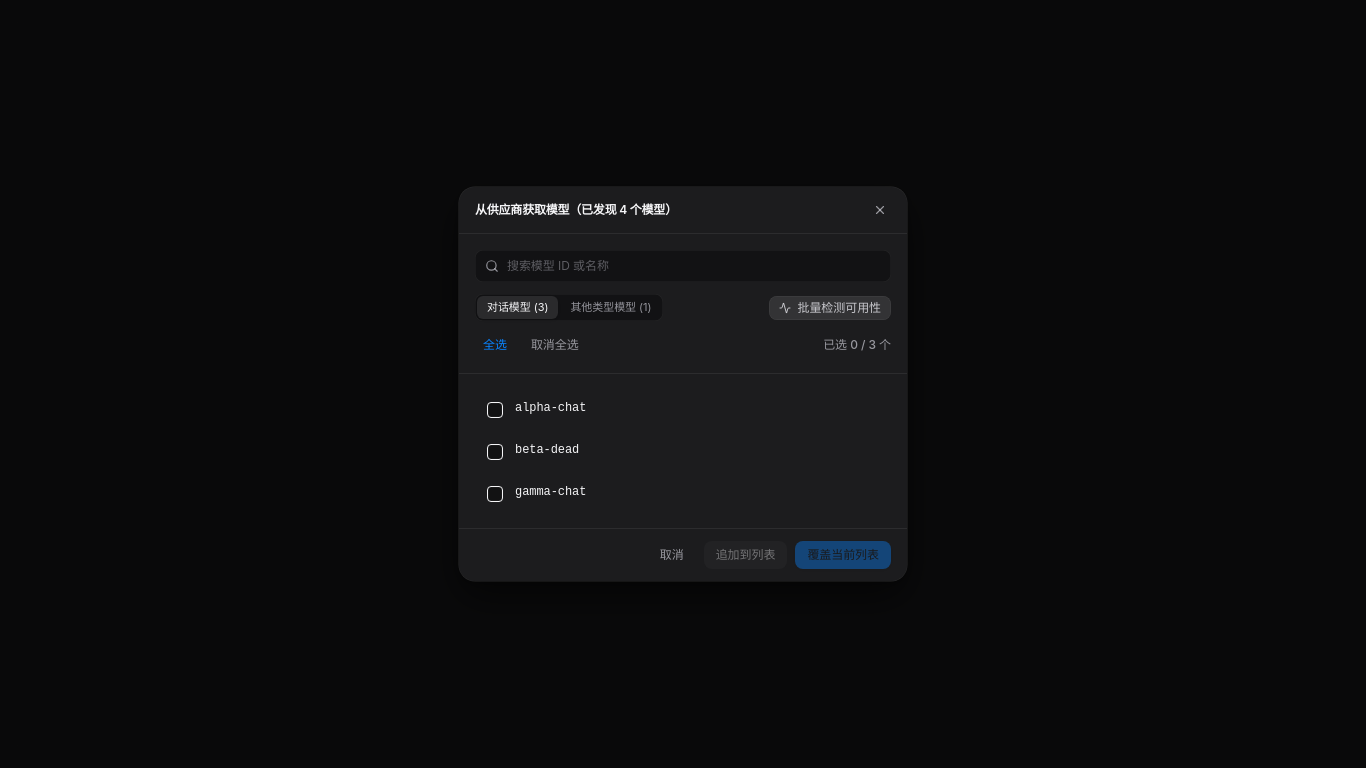
Test case: ModelPickerModal › separates chat and other models into tabs
Expected: the text "text-embedding-3-small" is not shown
Click the radio button "其他类型模型 (1)" at (611, 308), box x1=560 y1=296 x2=661 y2=319
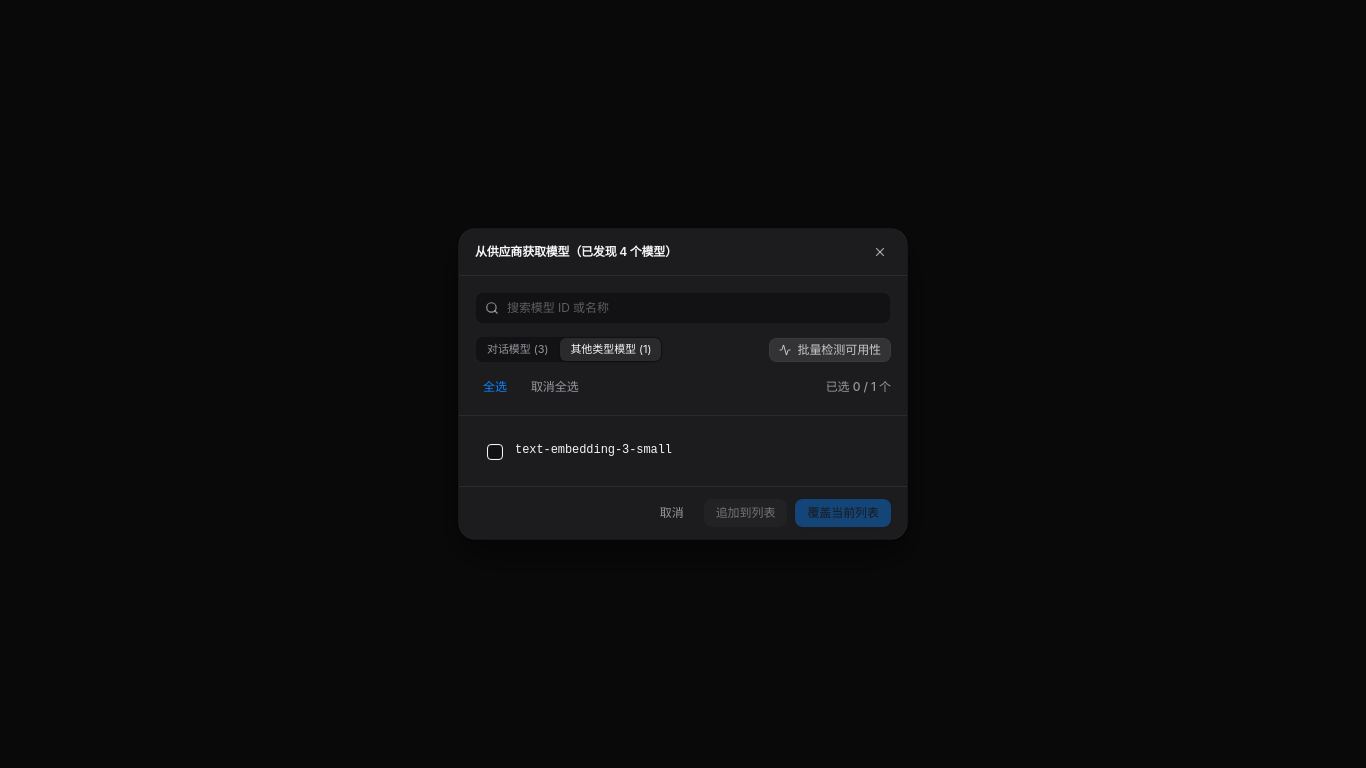
Now the text "text-embedding-3-small" is shown, box x1=515 y1=442 x2=672 y2=458
Now the button "alpha-chat" is gone
